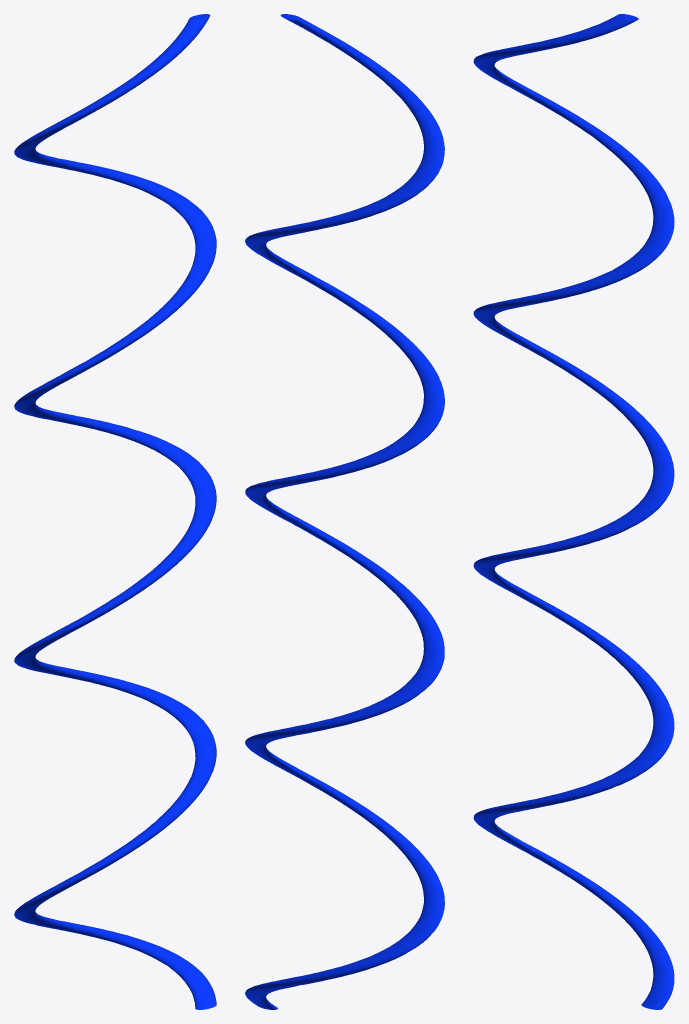
The model's file is wavething.glb.
3 renders of one model, left to right at view 1: azimuth 30°, elevation 25°; view 2: azimuth 150°, elevation 25°; view 3: azimuth 330°, elevation 25°, orthographic.
Parts seen in each view (by area): view 1: Cylinder; view 2: Cylinder; view 3: Cylinder.
Boxes of the visible parts, x1=… form: Cylinder: x1=14, y1=14, x2=216, y2=1009; Cylinder: x1=245, y1=14, x2=444, y2=1009; Cylinder: x1=473, y1=14, x2=674, y2=1009.
Size of the model in its own units: 3.27 by 16.03 by 1.59.
